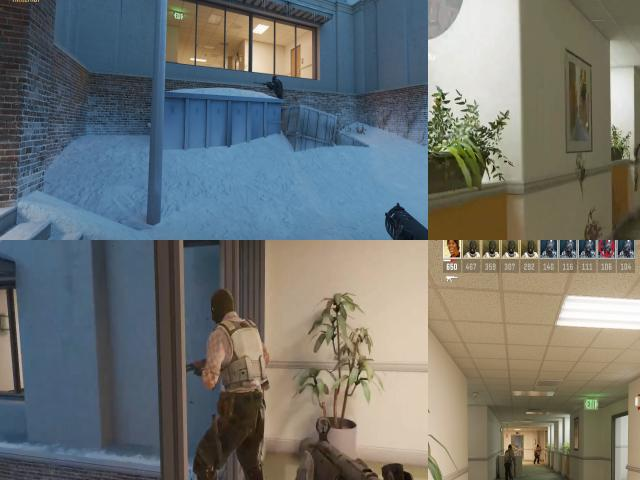CT: (270, 72, 285, 101)
CT-Head: (272, 75, 277, 83)
T: (203, 312, 267, 408), (504, 443, 512, 480), (534, 444, 540, 463)
T-Head: (208, 287, 240, 330), (508, 444, 512, 452), (536, 444, 539, 448)
